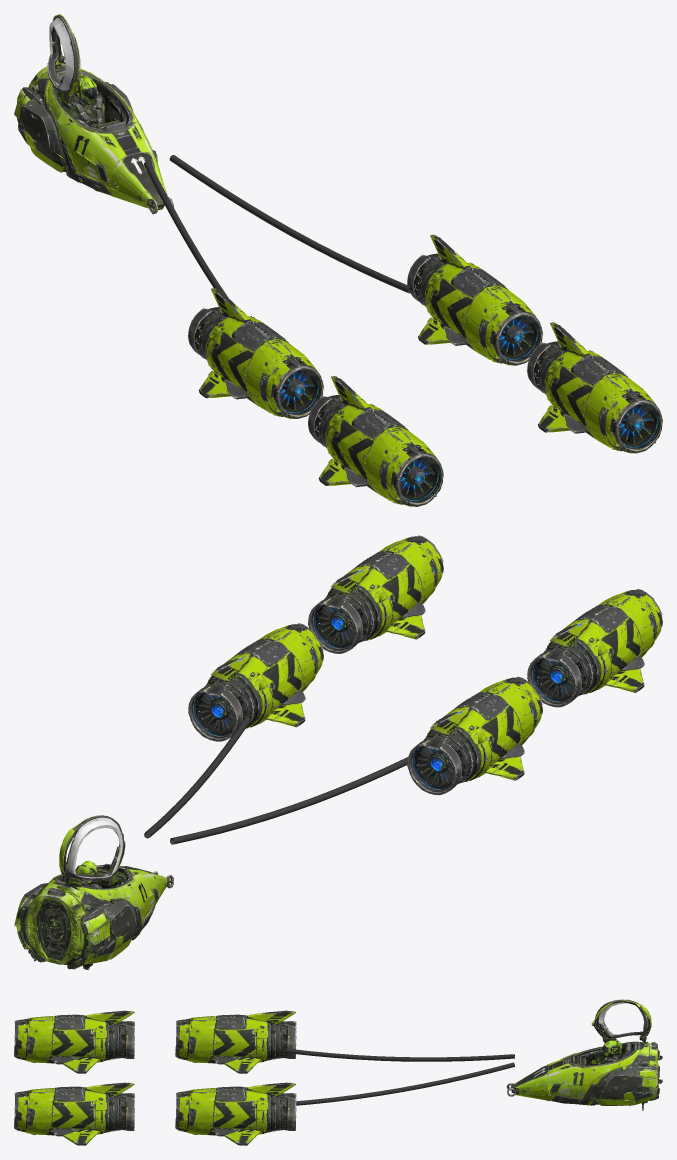
The model's file is hornet-hero.glb.
3 views of the same model, one above another, from view 1: azimuth 30°, elevation 25°; view 2: azimuth 150°, elevation 25°; view 3: azimuth 270°, elevation 25° (orthographic). The views are drawn at different scales.
Parts seen in each view (by area): view 1: hornet-cockpit-body, hornet-engine-right-front-body, hornet-engine-left-front-body, hornet-engine-left-rear-body, hornet-engine-right-rear-body, hornet-tow-cables; view 2: hornet-cockpit-body, hornet-engine-left-rear-body, hornet-engine-right-front-body, hornet-engine-left-front-body, hornet-engine-right-rear-body, hornet-tow-cables; view 3: hornet-cockpit-body, hornet-engine-right-rear-body, hornet-engine-right-front-body, hornet-engine-left-front-body, hornet-engine-left-rear-body, hornet-tow-cables.
Part boxes in pixels (bbox=[...]): hornet-cockpit-body: bbox=[14, 14, 173, 213]; hornet-engine-right-front-body: bbox=[527, 322, 662, 453]; hornet-engine-left-front-body: bbox=[308, 376, 443, 506]; hornet-engine-left-rear-body: bbox=[188, 288, 323, 418]; hornet-engine-right-rear-body: bbox=[407, 234, 542, 365]; hornet-tow-cables: bbox=[143, 155, 412, 330]; hornet-cockpit-body: bbox=[14, 815, 174, 970]; hornet-engine-left-rear-body: bbox=[407, 676, 542, 795]; hornet-engine-right-front-body: bbox=[308, 535, 443, 653]; hornet-engine-left-front-body: bbox=[527, 589, 662, 707]; hornet-engine-right-rear-body: bbox=[188, 623, 323, 741]; hornet-tow-cables: bbox=[144, 716, 407, 844]; hornet-cockpit-body: bbox=[506, 999, 662, 1110]; hornet-engine-right-rear-body: bbox=[175, 1082, 296, 1145]; hornet-engine-right-front-body: bbox=[14, 1082, 134, 1145]; hornet-engine-left-front-body: bbox=[14, 1010, 134, 1073]; hornet-engine-left-rear-body: bbox=[175, 1010, 296, 1073]; hornet-tow-cables: bbox=[286, 1048, 514, 1105].
Size of the model in its own units: 11.45 by 4.94 by 29.96.
Materials: 3 (2 with a texture image).
